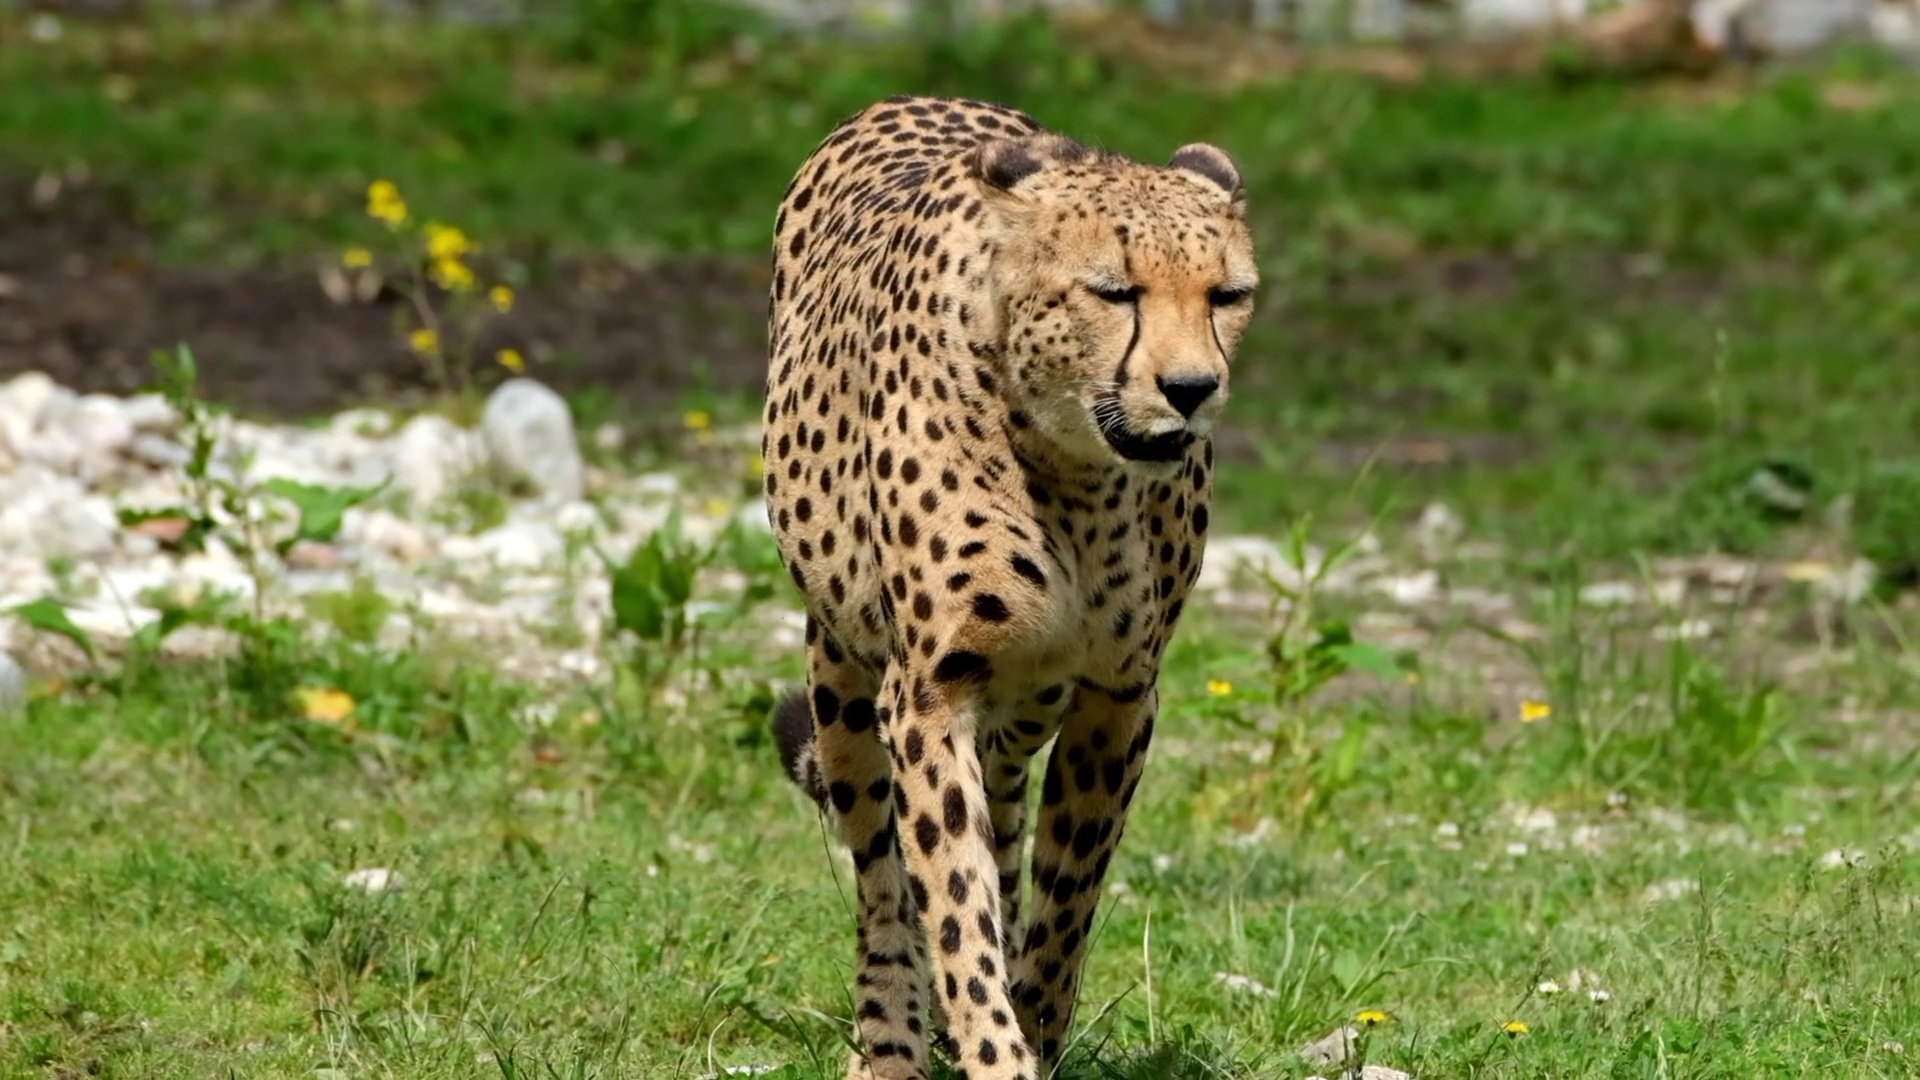Cheetah: (754, 90, 1266, 1080)
